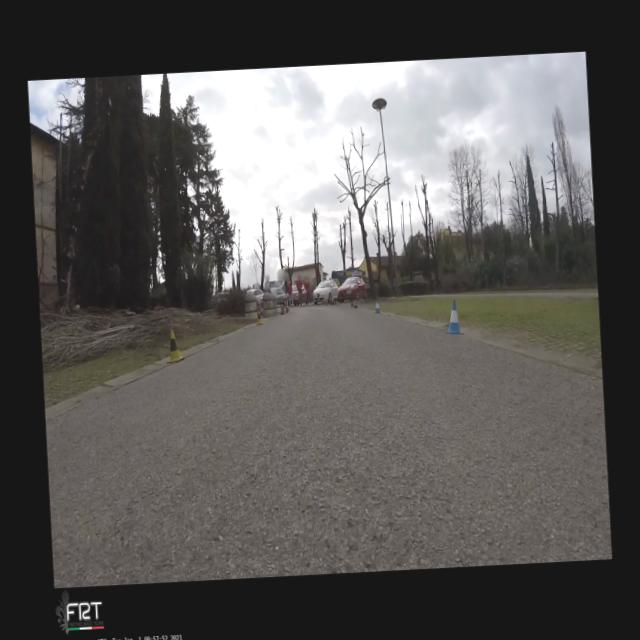blue_cone: (444, 300, 464, 336), (374, 300, 381, 314)
large_orange_cone: (286, 300, 289, 311), (354, 298, 357, 308)
unknown_cone: (280, 304, 284, 314), (351, 300, 354, 307), (286, 306, 288, 312)
yellow_cone: (164, 329, 184, 363), (256, 310, 264, 324)
